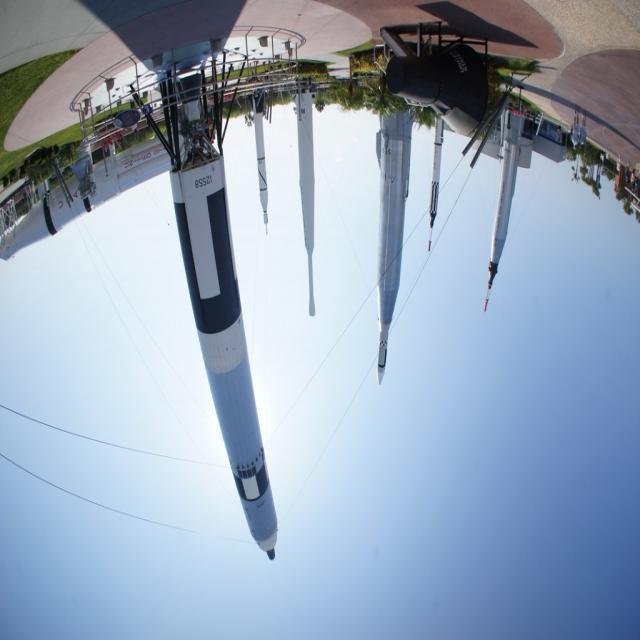Missile: (154, 117, 282, 563), (376, 98, 410, 384), (479, 108, 522, 326), (254, 94, 270, 232), (427, 108, 443, 234)
